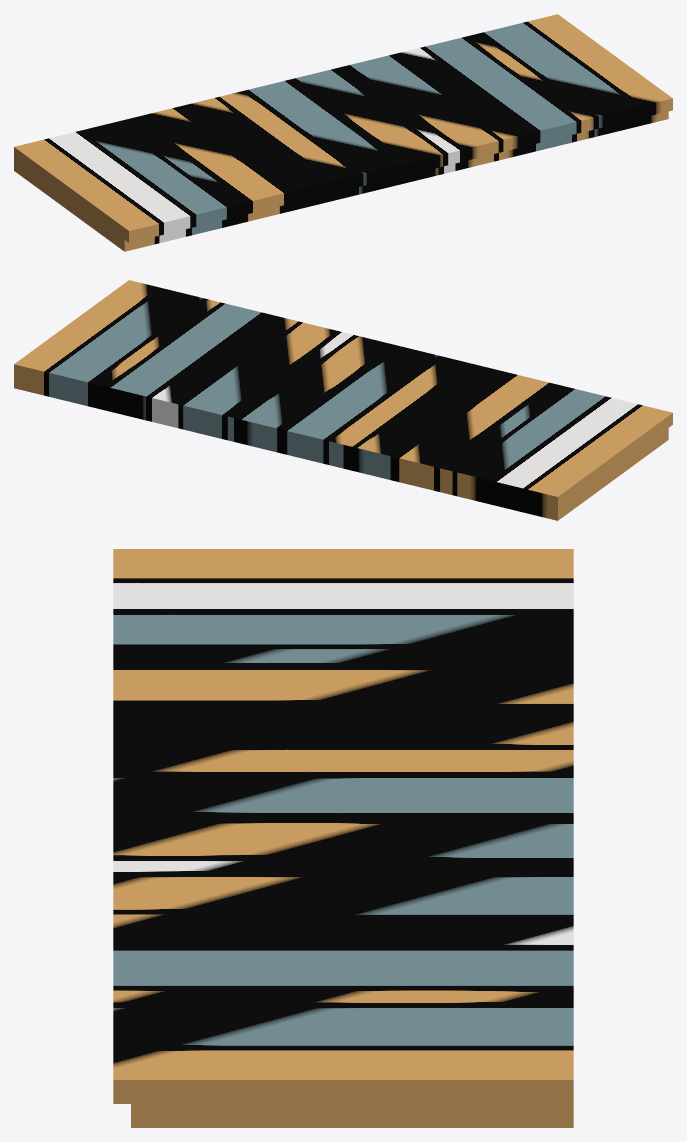
File: Table_Z_Drawer.fbx
3 renders of one model, top to bottom at view 1: azimuth 30°, elevation 25°; view 2: azimuth 150°, elevation 25°; view 3: azimuth 270°, elevation 25°, orthographic. The views are drawn at different scales.
Parts seen in each view (by area): view 1: Table_Z_Drawer; view 2: Table_Z_Drawer; view 3: Table_Z_Drawer.
Boxes of the visible parts, box(x1,y1,x2,y2) form: Table_Z_Drawer: box(14, 14, 672, 251); Table_Z_Drawer: box(14, 280, 672, 520); Table_Z_Drawer: box(113, 549, 573, 1127).
Bounding box in the file's own units: 120 × 5.03 × 43.87.
